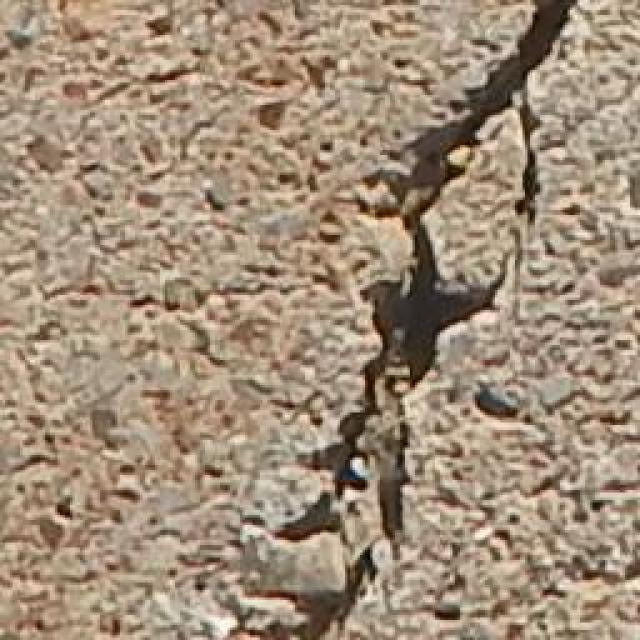concrete-crack: (222, 0, 600, 638)
